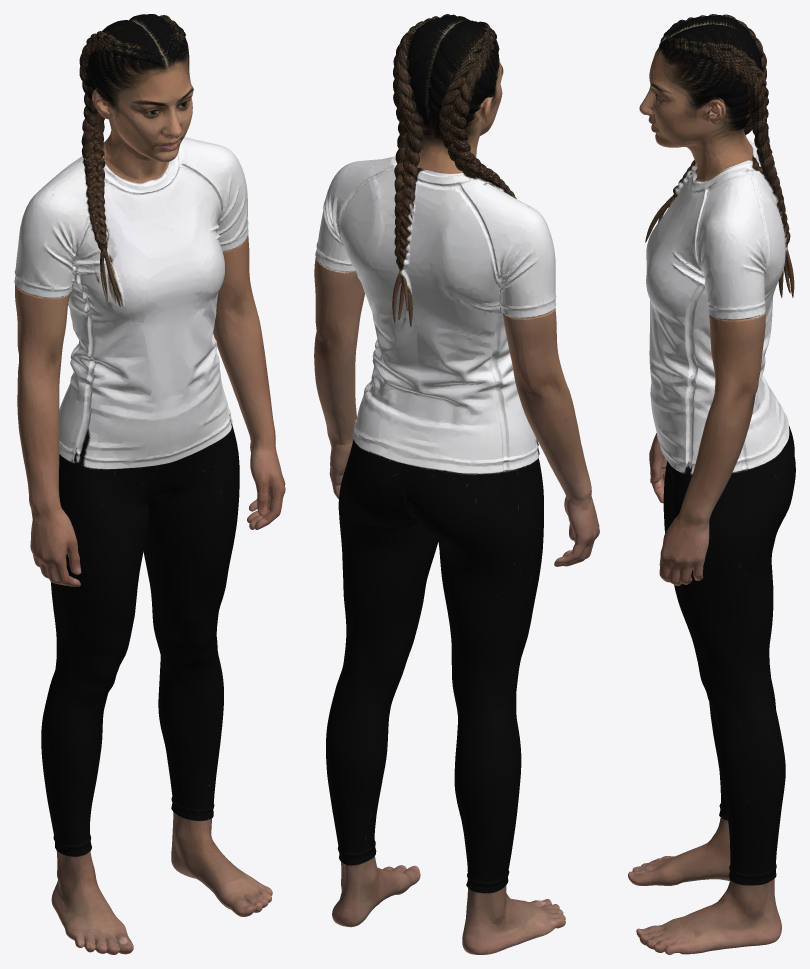
File: demo-nogi-women.glb
3 renders of one model, left to right at view 1: azimuth 30°, elevation 25°; view 2: azimuth 150°, elevation 25°; view 3: azimuth 270°, elevation 25°, orthographic.
Bounding box in the file's own units: 0.5613 × 1.9 × 0.3256.
Materials: 1 (1 with a texture image).
